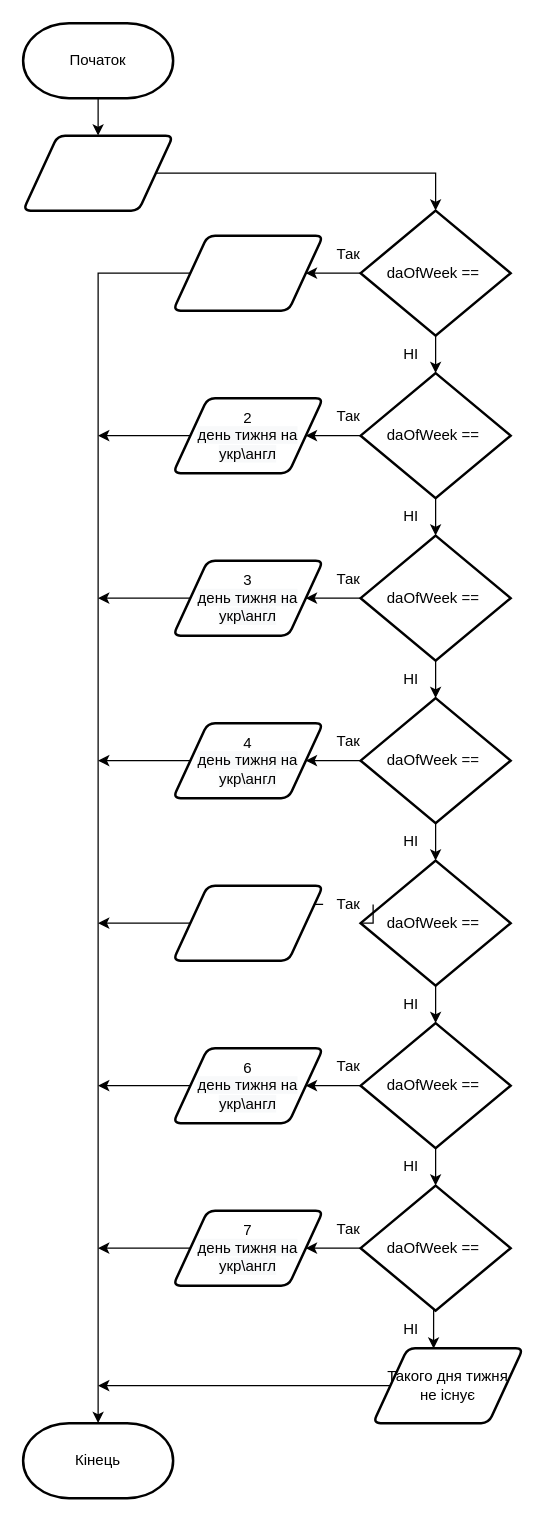
This 545x1520 diagram has some shape labels left out. The centre of each missing label's shape, as x and y in pixels:
"1 день тижня на укр\англ" goes at (x=247, y=272).
"5 день тижня на укр\англ" goes at (x=247, y=922).
"dayOfWeek" goes at (x=97, y=172).
